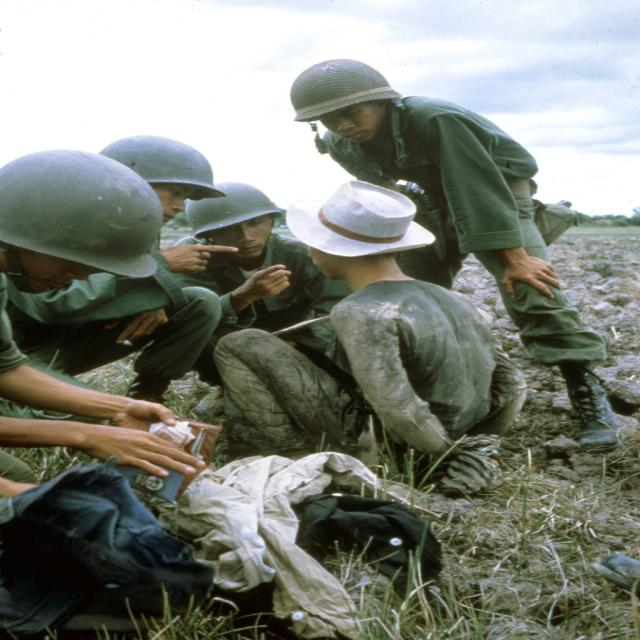Hat: (283, 178, 441, 260)
